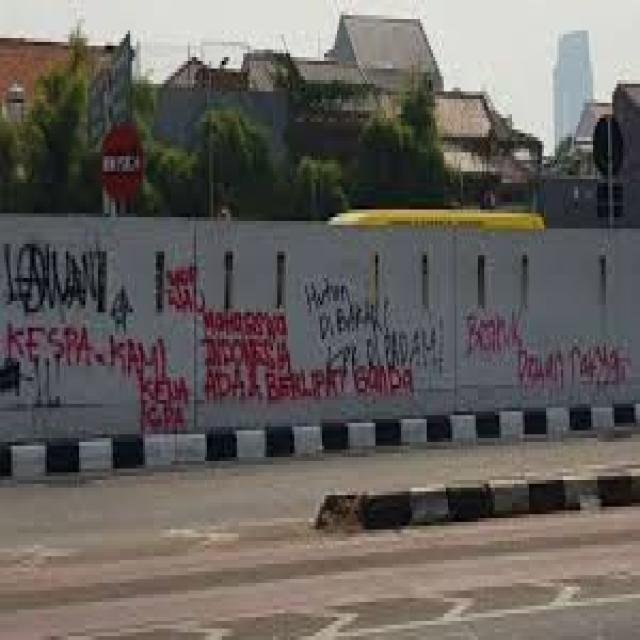-: (201, 308, 415, 404), (6, 322, 188, 430), (306, 278, 446, 374), (467, 313, 629, 390), (2, 245, 106, 310), (163, 260, 206, 318), (110, 280, 132, 332)
